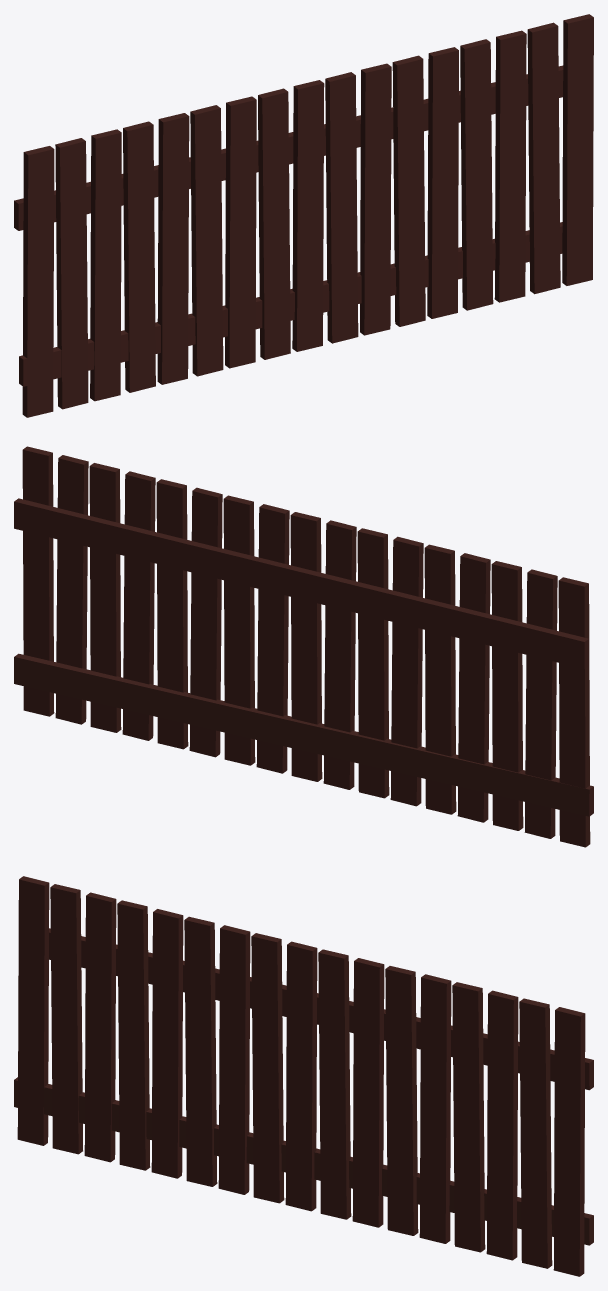
File: fense.glb
The picture shows the model from 3 angles, top to bottom: view 1: azimuth 30°, elevation 25°; view 2: azimuth 150°, elevation 25°; view 3: azimuth 330°, elevation 25°; orthographic projection.
Visible parts, largest first — view 1: Fense; view 2: Fense; view 3: Fense.
Boxes of the visible parts, x1=… form: Fense: x1=14, y1=14, x2=593, y2=417; Fense: x1=14, y1=446, x2=593, y2=847; Fense: x1=14, y1=876, x2=593, y2=1276.
Size of the model in its own units: 1.31 by 0.5721 by 0.0369.
